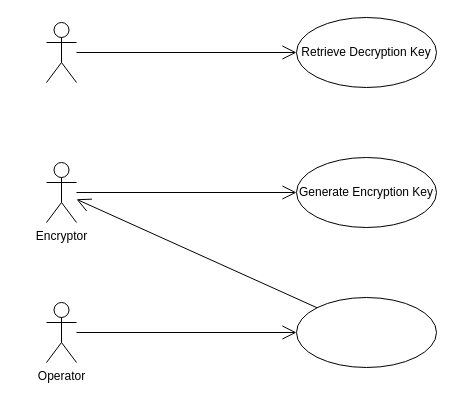
Some shapes in this 454 by 401 pixel diagram are drawn without their labels. Here are the shapes that lost their labels. From the top down, the centre of each, then its label:
At [61,52]: "Video Consumer".
At [366,332]: "Configure Encryptor".
